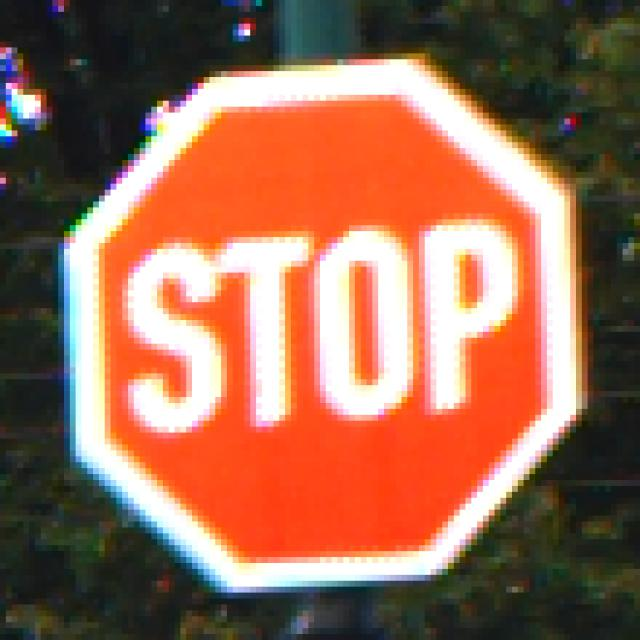STOP: (53, 54, 583, 588)
